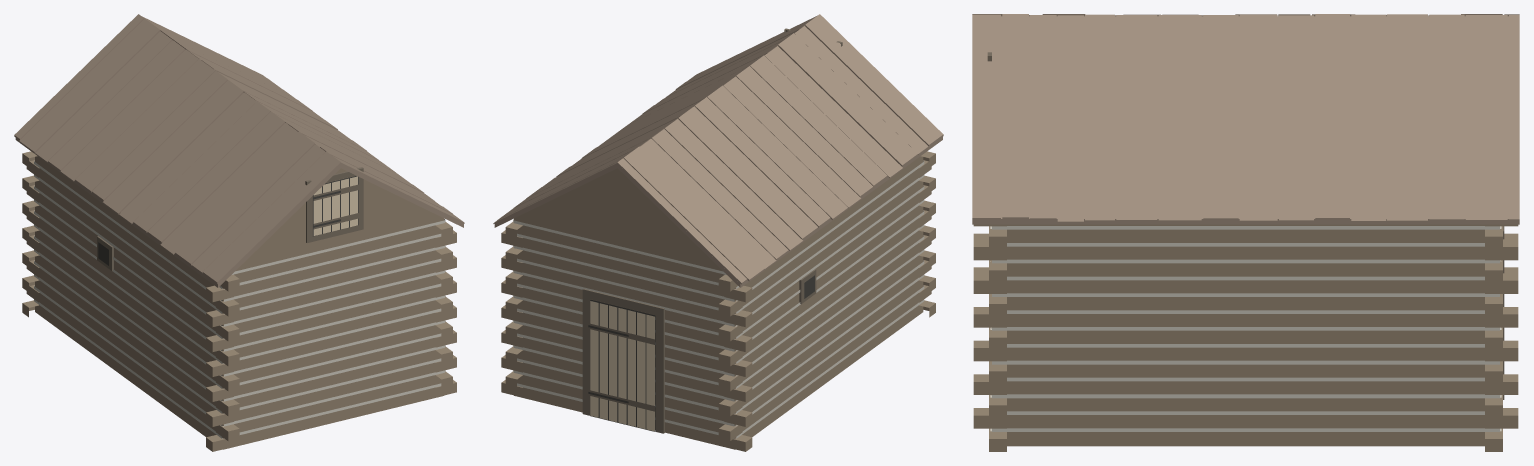
The model's file is recon_1835_blk_south_water_franklin_a1_06__inferred_1835.glb.
The picture shows the model from 3 angles, left to right: view 1: azimuth 30°, elevation 25°; view 2: azimuth 150°, elevation 25°; view 3: azimuth 270°, elevation 25°; orthographic projection. The views are drawn at different scales.
Parts seen in each view (by area): view 1: recon_1835_blk_south_water_franklin_a1_06__inferred_1835; view 2: recon_1835_blk_south_water_franklin_a1_06__inferred_1835; view 3: recon_1835_blk_south_water_franklin_a1_06__inferred_1835.
Boxes of the visible parts, x1=… form: recon_1835_blk_south_water_franklin_a1_06__inferred_1835: x1=14, y1=14, x2=464, y2=451; recon_1835_blk_south_water_franklin_a1_06__inferred_1835: x1=493, y1=14, x2=943, y2=451; recon_1835_blk_south_water_franklin_a1_06__inferred_1835: x1=972, y1=14, x2=1519, y2=451.
Size of the model in its own units: 5.18 by 5.24 by 7.23.
